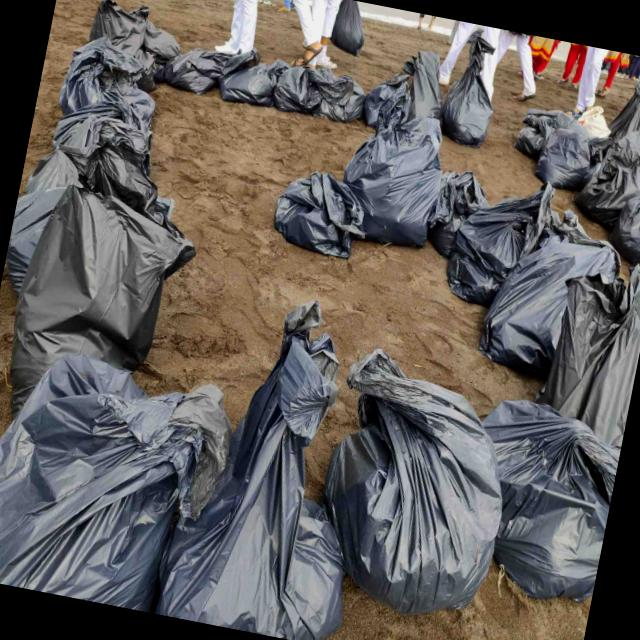tui_ni_long: (156, 303, 343, 640), (0, 355, 230, 613), (325, 349, 503, 614), (9, 185, 195, 416), (484, 401, 620, 603), (480, 240, 622, 374), (538, 265, 640, 448), (52, 37, 157, 211), (448, 183, 556, 305), (344, 116, 443, 247), (5, 148, 82, 293), (220, 60, 366, 121), (59, 36, 154, 128), (89, 0, 180, 90), (275, 171, 365, 258), (364, 50, 443, 130), (442, 28, 495, 147), (576, 131, 640, 227), (70, 142, 157, 212), (429, 171, 488, 257), (163, 47, 259, 93), (515, 108, 589, 159), (536, 127, 591, 190), (219, 59, 290, 105), (273, 65, 322, 112), (612, 196, 640, 264), (331, 0, 365, 55)
